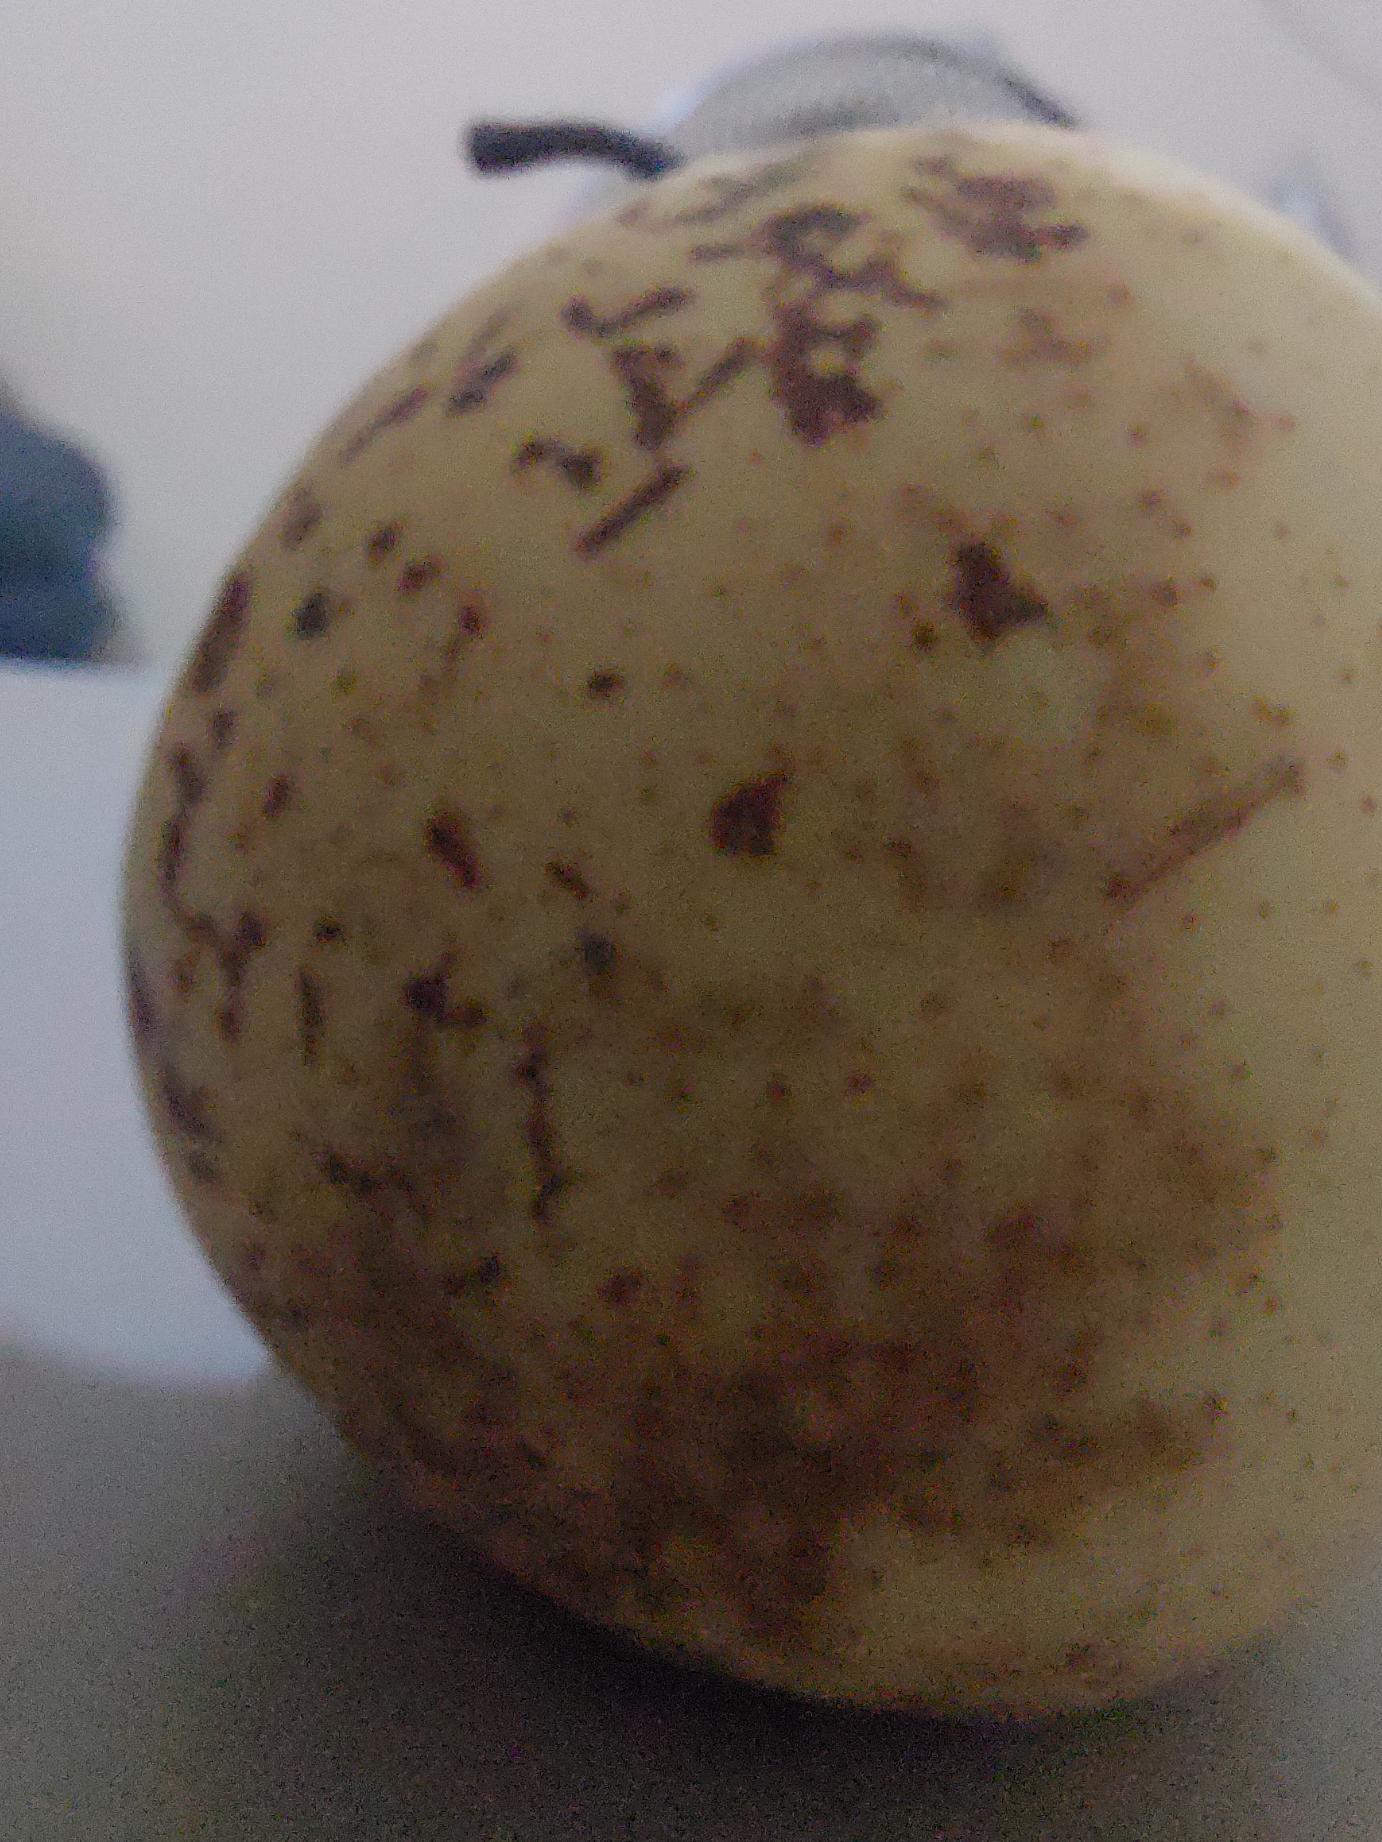Bad Pear: (109, 110, 1382, 1749)
